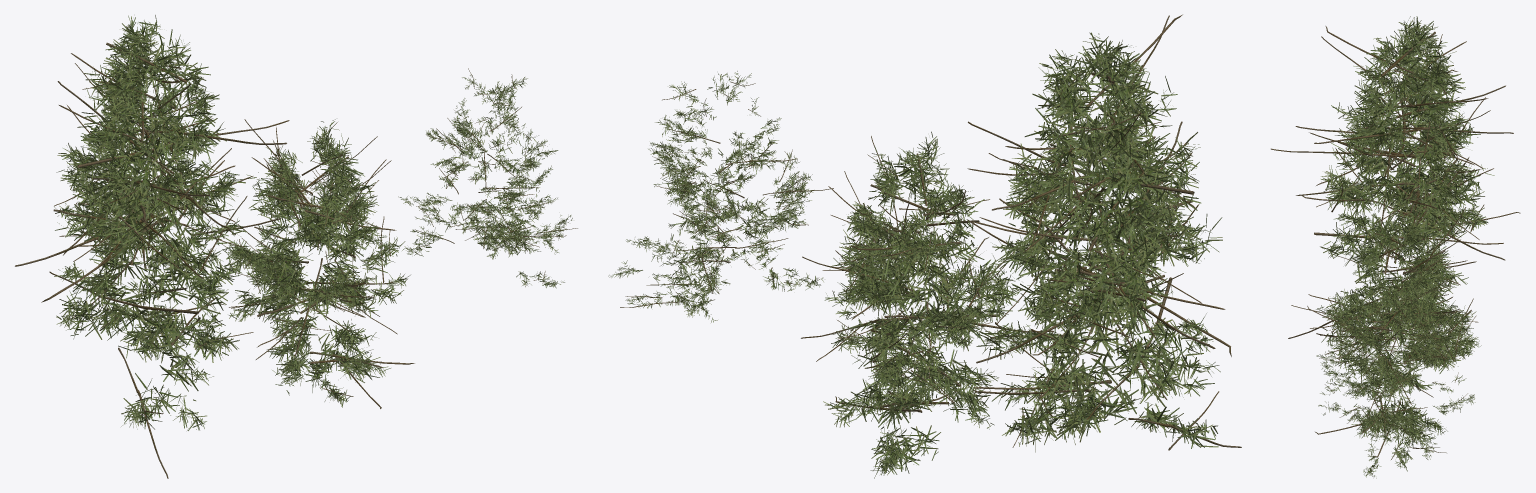
Rendered from fir_tree_01_leaf.glb.
3 renders of one model, left to right at view 1: azimuth 30°, elevation 25°; view 2: azimuth 150°, elevation 25°; view 3: azimuth 270°, elevation 25°, orthographic. The views are drawn at different scales.
Visible parts, largest first — view 1: fir_tree_01_a_LOD0, fir_tree_01_b_LOD0, fir_tree_01_c_LOD0; view 2: fir_tree_01_a_LOD0, fir_tree_01_b_LOD0, fir_tree_01_c_LOD0; view 3: fir_tree_01_a_LOD0, fir_tree_01_b_LOD0, fir_tree_01_c_LOD0.
Part boxes in pixels (x1,y1,x2,y2): fir_tree_01_a_LOD0: (15,15,289,478); fir_tree_01_b_LOD0: (217,119,414,408); fir_tree_01_c_LOD0: (398,68,577,288); fir_tree_01_a_LOD0: (966,14,1241,452); fir_tree_01_b_LOD0: (801,131,1071,478); fir_tree_01_c_LOD0: (608,71,833,322); fir_tree_01_a_LOD0: (1271,16,1520,349); fir_tree_01_b_LOD0: (1291,207,1481,471); fir_tree_01_c_LOD0: (1316,267,1475,478).
Size of the model in its own units: 19.63 by 15.14 by 9.35.
1 material, 1 textured.
